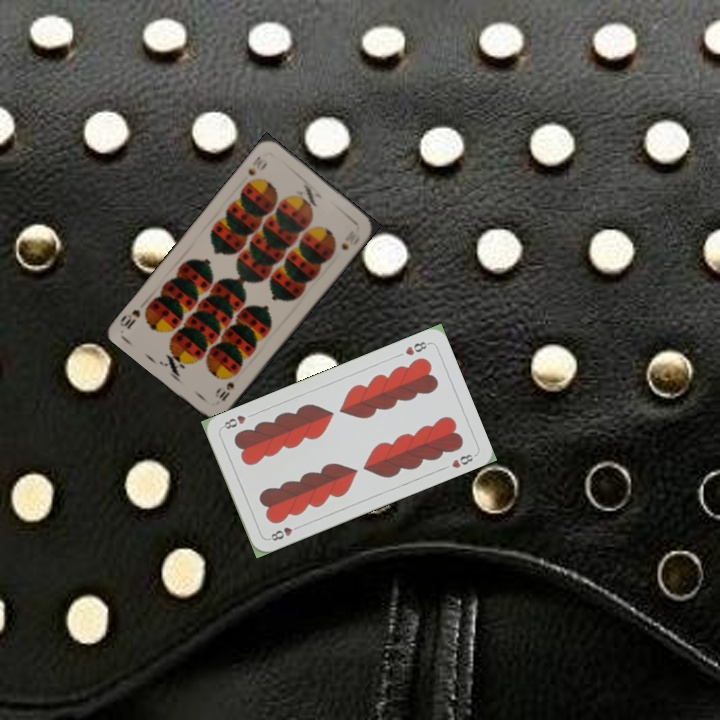H8: (264, 521, 303, 544), (401, 337, 432, 358)
S10: (212, 370, 239, 405), (244, 152, 269, 178)
